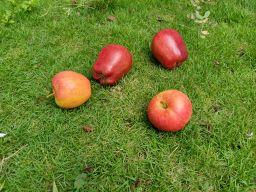apple: (142, 82, 202, 135), (141, 20, 195, 73), (39, 65, 94, 111), (90, 39, 138, 91)
